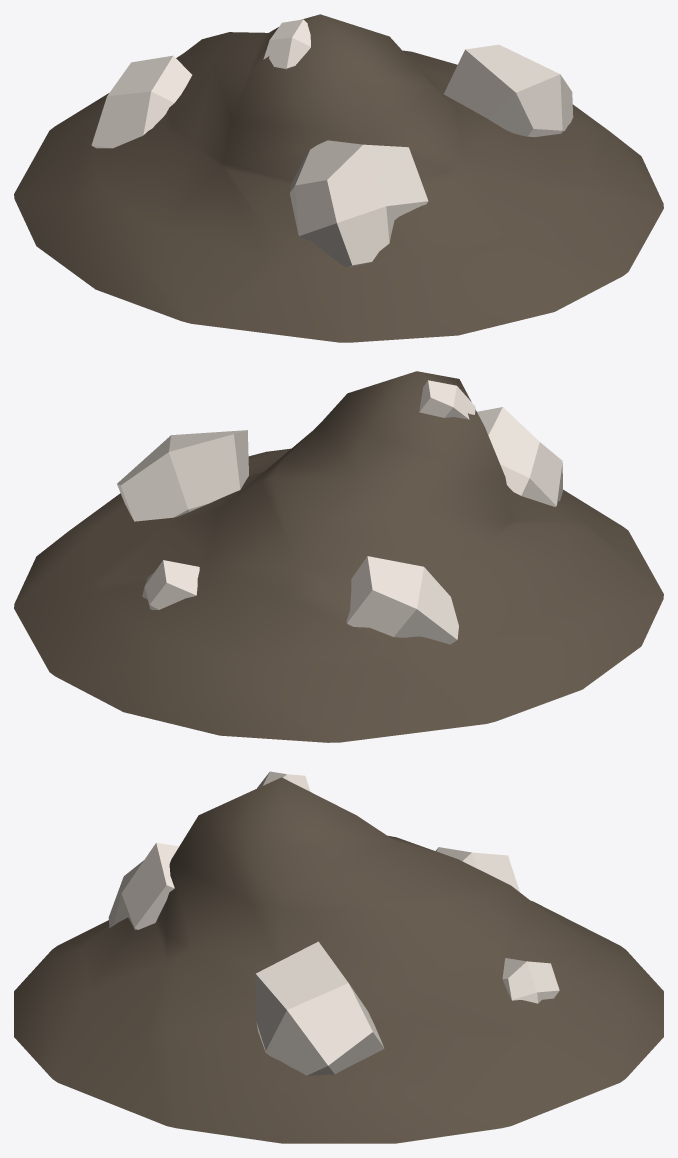
The model's file is props_smashed_prop_1.fbx.
3 views of the same model, one above another, from view 1: azimuth 30°, elevation 25°; view 2: azimuth 150°, elevation 25°; view 3: azimuth 270°, elevation 25° (orthographic). The views are drawn at different scales.
Parts seen in each view (by area): view 1: props_smashed_prop_1; view 2: props_smashed_prop_1; view 3: props_smashed_prop_1.
Boxes of the visible parts, box(x1,y1,x2,y2) form: props_smashed_prop_1: box(14, 14, 663, 342); props_smashed_prop_1: box(14, 371, 663, 742); props_smashed_prop_1: box(14, 771, 663, 1143).
Bounding box in the file's own units: 0.9637 × 1.02 × 0.4141.
